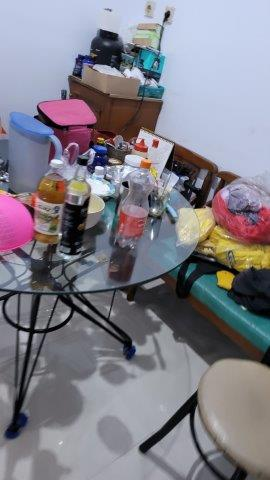botolkaca: (62, 153, 93, 259)
